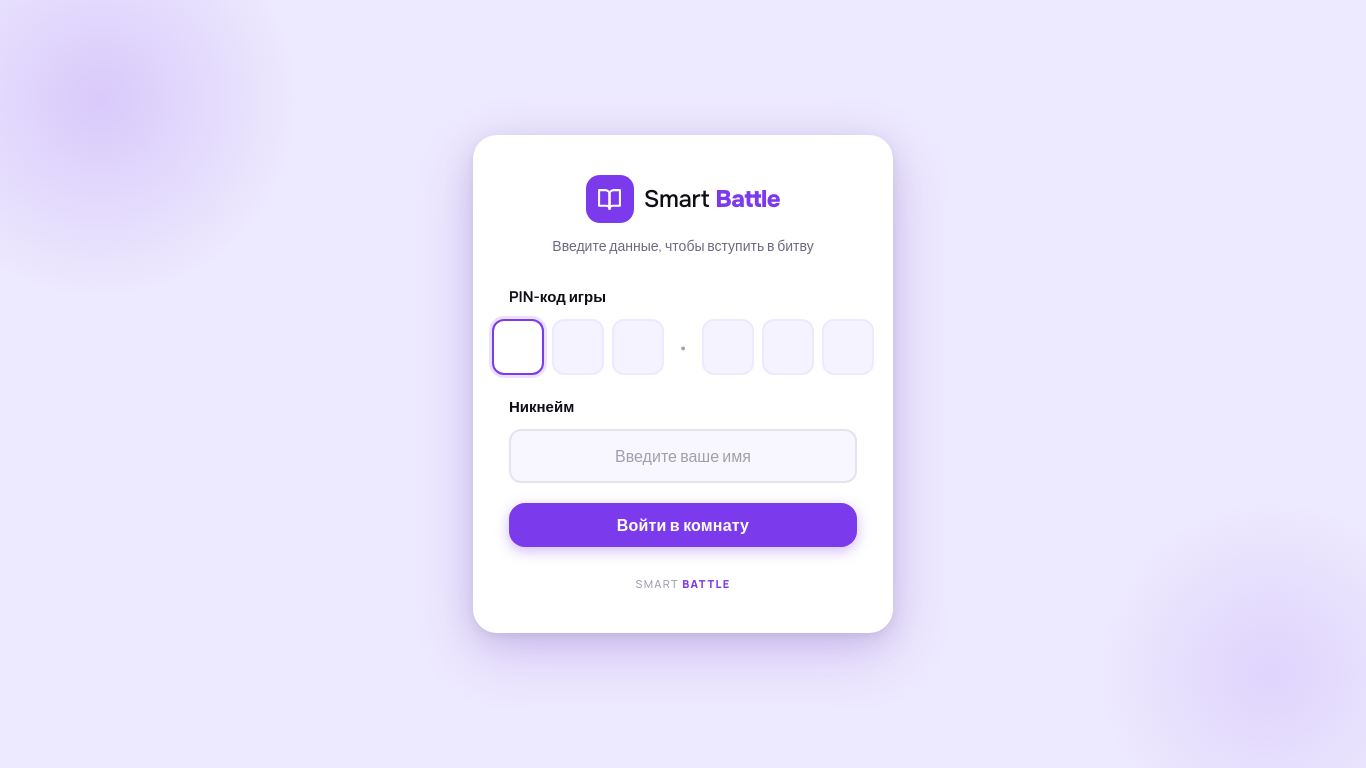
Test: JoinPage › validation › shows PIN error when PIN is incomplete
The width and height of the screenshot is (1366, 768).
Click the button "Войти в комнату" at (683, 525), box x1=509 y1=503 x2=857 y2=547
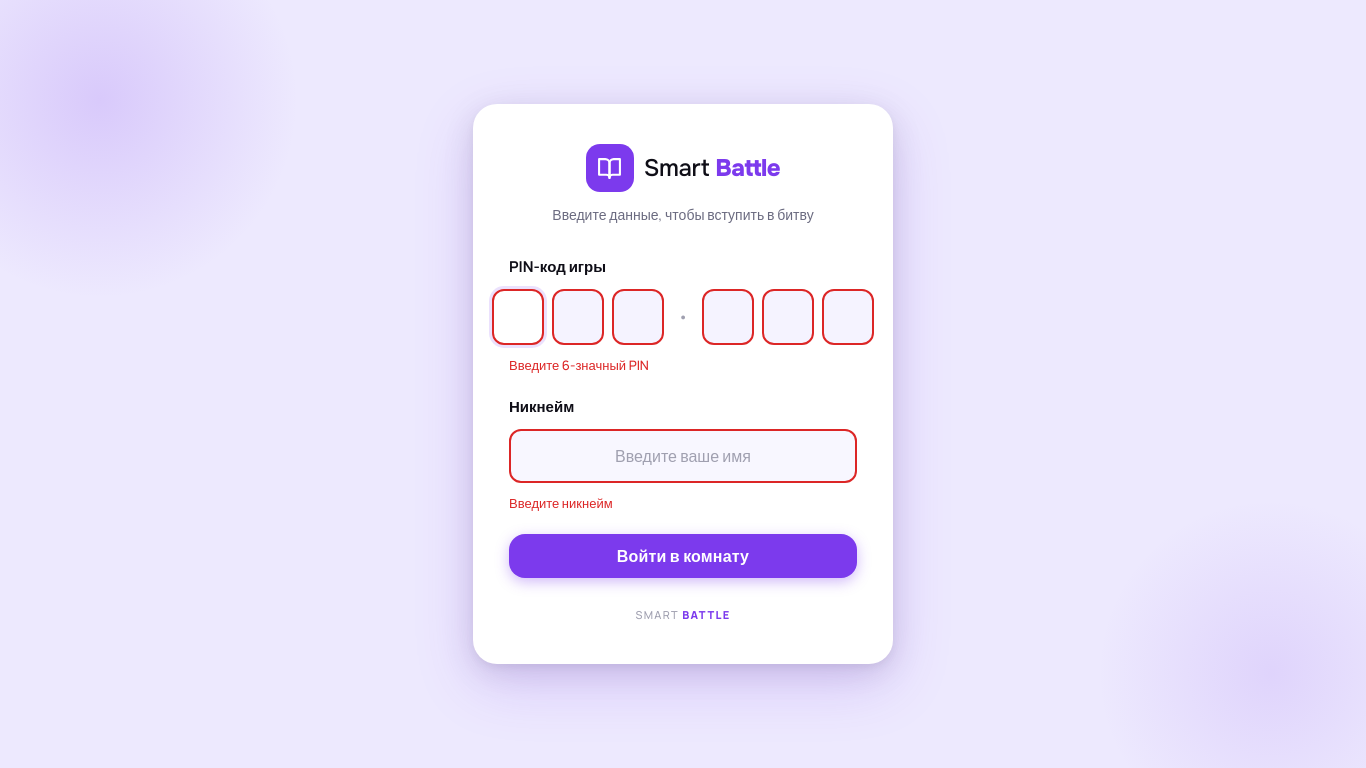
Check: the text "Введите 6-значный PIN" is shown, box x1=509 y1=356 x2=649 y2=374
